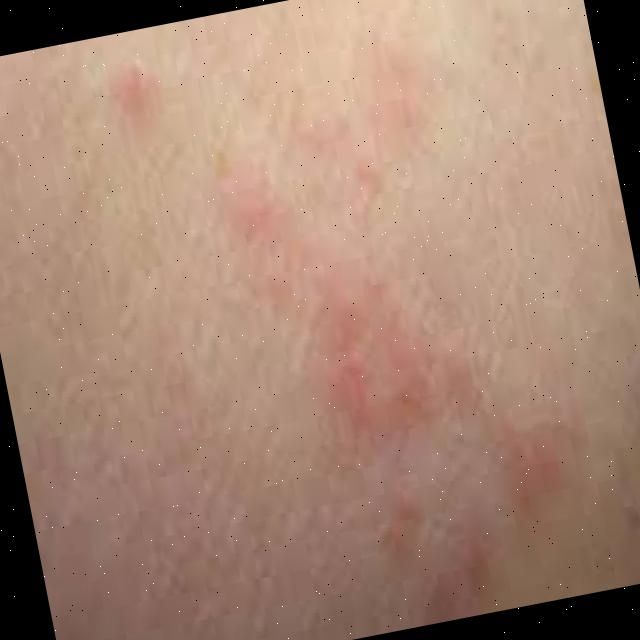kan emici bocekler: (221, 65, 512, 470), (110, 63, 166, 135)
